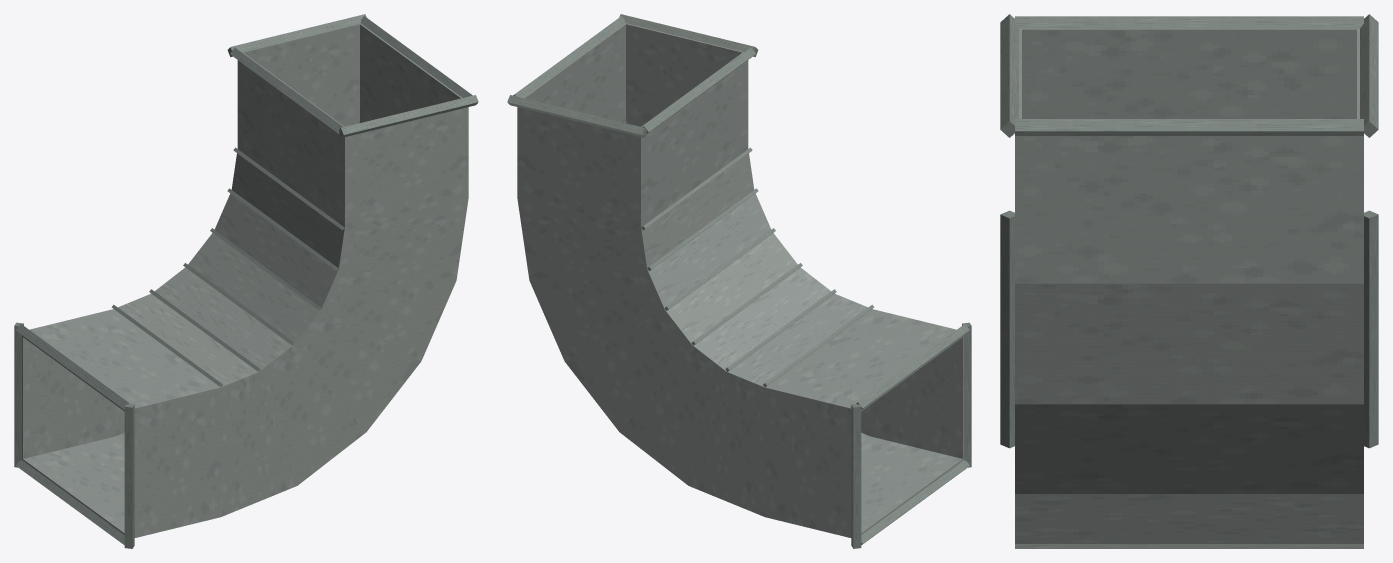
Rendered from hvac_elbow_up.glb.
The picture shows the model from 3 angles, left to right: view 1: azimuth 30°, elevation 25°; view 2: azimuth 150°, elevation 25°; view 3: azimuth 270°, elevation 25°; orthographic projection. The views are drawn at different scales.
Visible parts, largest first — view 1: hvac_elbow_up; view 2: hvac_elbow_up; view 3: hvac_elbow_up.
Part boxes in pixels (x1,y1,x2,y2): hvac_elbow_up: [14, 14, 478, 548]; hvac_elbow_up: [507, 14, 971, 548]; hvac_elbow_up: [1000, 14, 1378, 548].
Size of the model in its own units: 1.14 by 1.14 by 0.65.
Materials: 2 (2 with a texture image).
